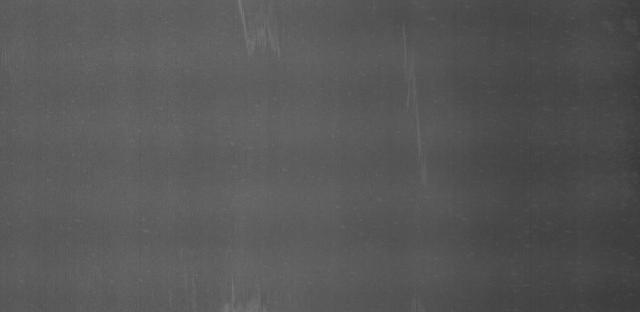silk_spot: (388, 45, 445, 204), (222, 9, 314, 59)
